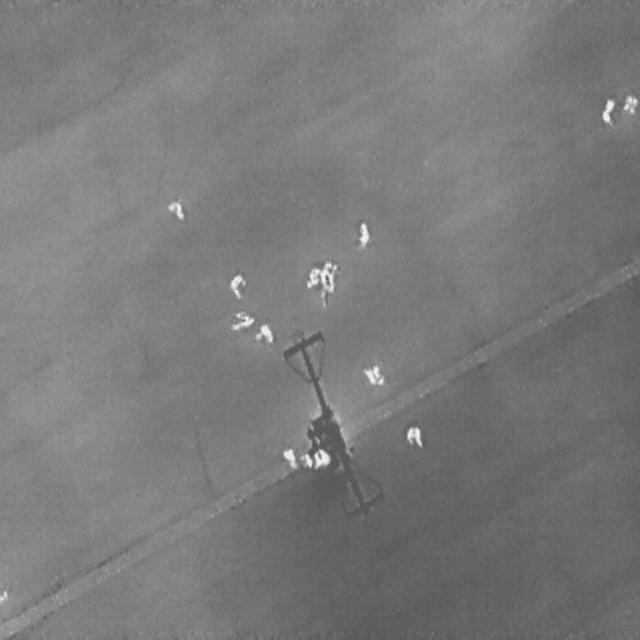Person: (227, 306, 255, 332), (319, 258, 336, 292), (361, 363, 385, 385), (166, 195, 187, 220), (254, 320, 273, 344), (228, 274, 245, 298), (600, 96, 614, 125), (621, 91, 638, 114), (312, 449, 330, 470), (281, 446, 297, 469), (405, 427, 422, 448), (306, 266, 319, 290), (358, 221, 369, 244)
